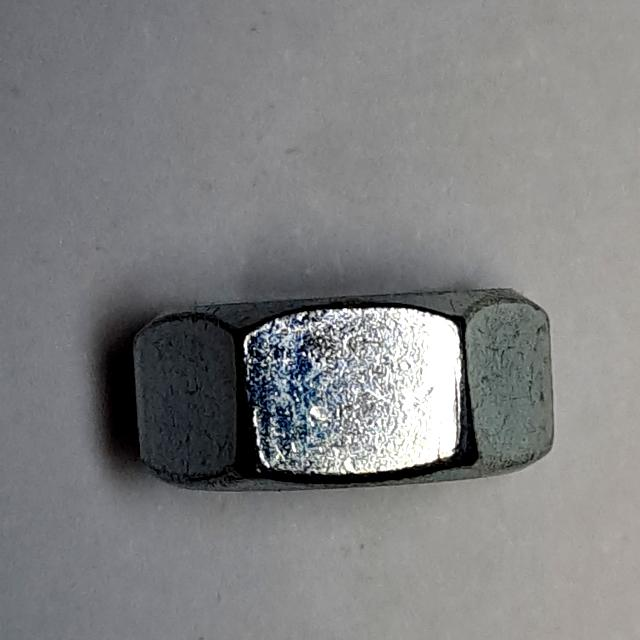Side_Excellent: (121, 273, 575, 533)
